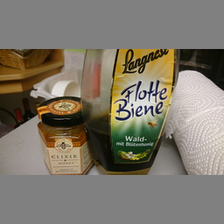honey: (82, 49, 180, 175), (36, 96, 92, 175)
